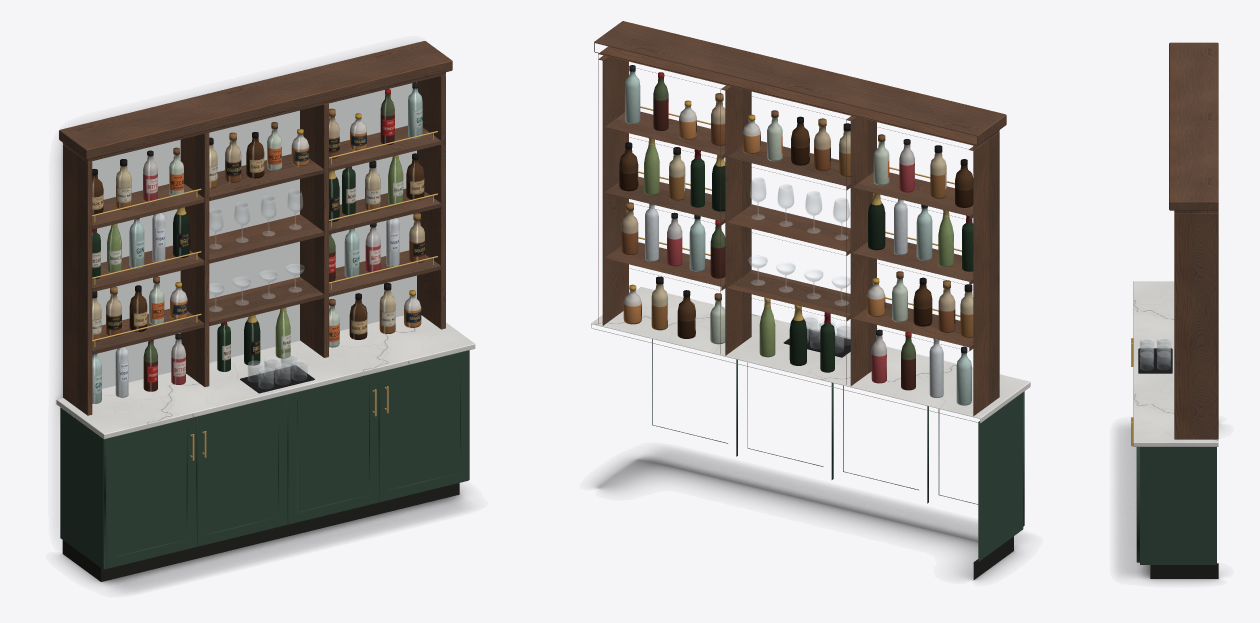
The model's file is back_bar.glb.
The picture shows the model from 3 angles, left to right: view 1: azimuth 30°, elevation 25°; view 2: azimuth 150°, elevation 25°; view 3: azimuth 270°, elevation 25°; orthographic projection. The views are drawn at different scales.
Parts seen in each view (by area): view 1: back_bar_LOD0, back_bar_Shadow; view 2: back_bar_LOD0, back_bar_Shadow; view 3: back_bar_LOD0, back_bar_Shadow.
Boxes of the visible parts, bbox=[...] form: back_bar_LOD0: bbox=[56, 41, 475, 581]; back_bar_Shadow: bbox=[55, 142, 466, 590]; back_bar_LOD0: bbox=[591, 21, 1030, 579]; back_bar_Shadow: bbox=[594, 449, 1021, 580]; back_bar_LOD0: bbox=[1131, 42, 1218, 578]; back_bar_Shadow: bbox=[1117, 425, 1218, 582].
Size of what is drawn, in the model's own units: 2.56 by 2.69 by 0.8315.
Materials: 8 (5 with a texture image).
